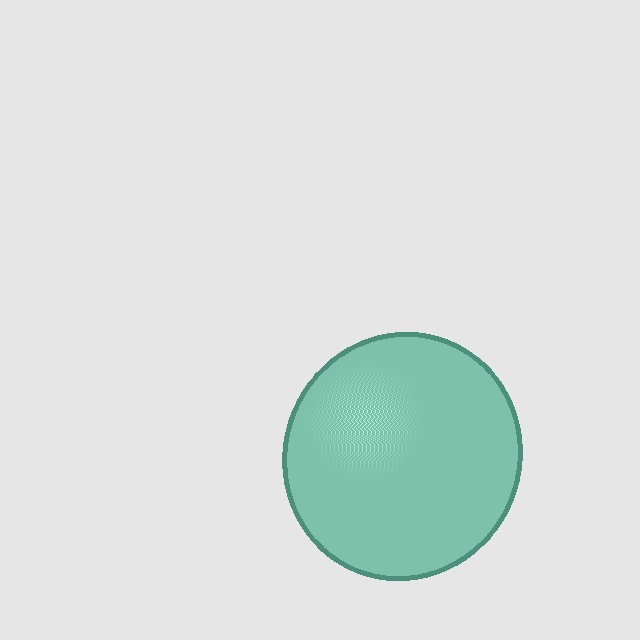lens: (285, 334, 519, 578)
